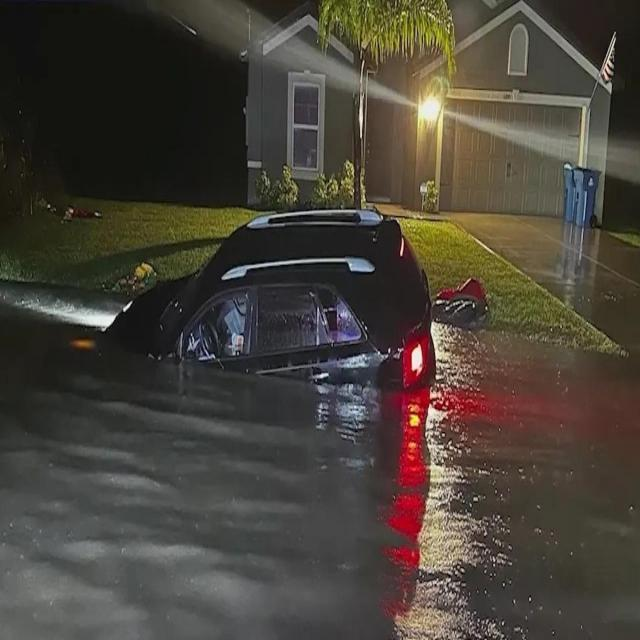water: (2, 301, 638, 638)
